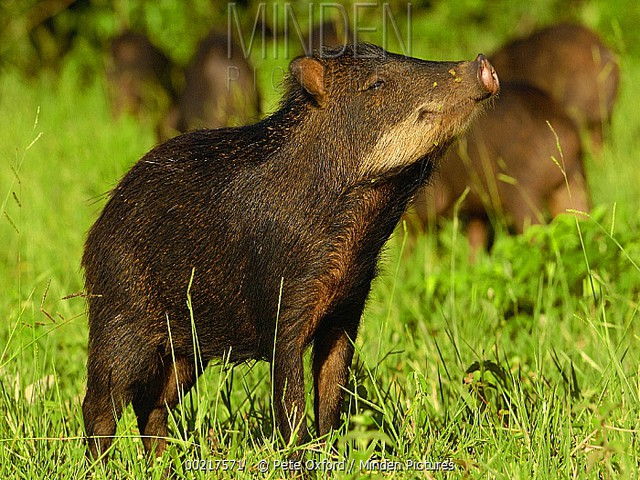Pig: (72, 36, 501, 442)
